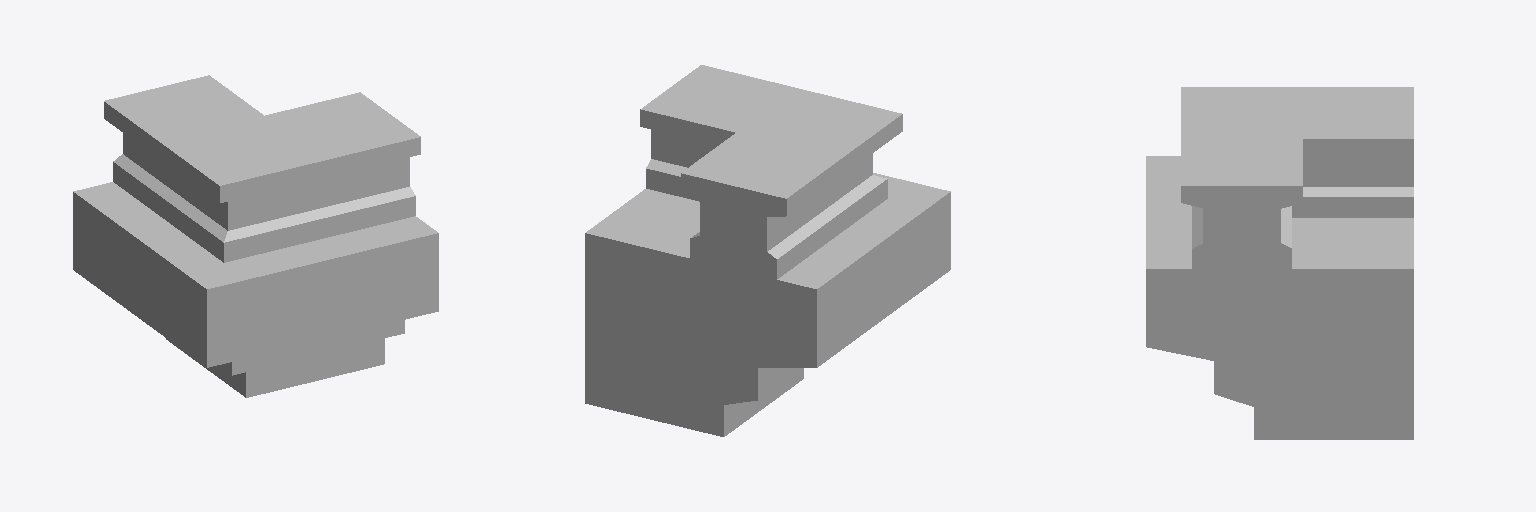
The model's file is CornerRoof.obj.
3 views of the same model, side by side, from view 1: azimuth 30°, elevation 25°; view 2: azimuth 150°, elevation 25°; view 3: azimuth 270°, elevation 25° (orthographic).
Parts seen in each view (by area): view 1: unknown; view 2: unknown; view 3: unknown.
Part boxes in pixels (bbox=[...]): unknown: bbox=[73, 75, 438, 397]; unknown: bbox=[585, 65, 950, 436]; unknown: bbox=[1146, 87, 1413, 439].
Bounding box in the file's own units: 0.711 × 0.7435 × 0.711.